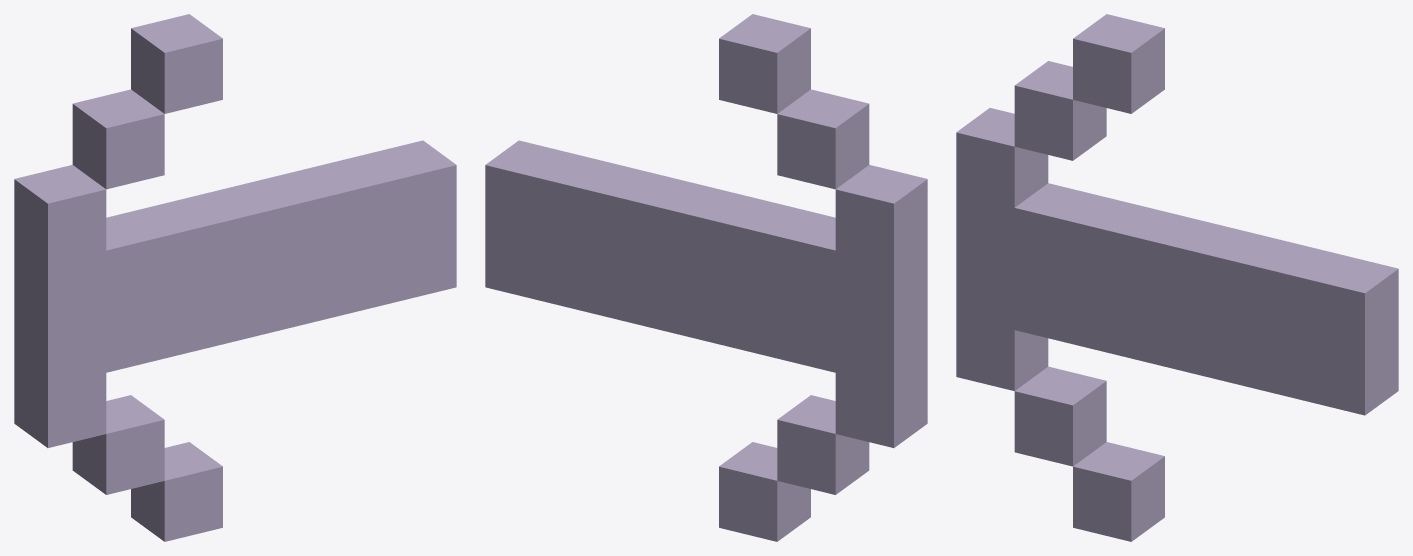
Rendered from Crossbow-Grey.vox.obj.
The picture shows the model from 3 angles, left to right: view 1: azimuth 30°, elevation 25°; view 2: azimuth 150°, elevation 25°; view 3: azimuth 330°, elevation 25°; orthographic projection.
Size of the model in its own units: 0.7 by 0.8 by 0.1.
Materials: 1 (1 with a texture image).
